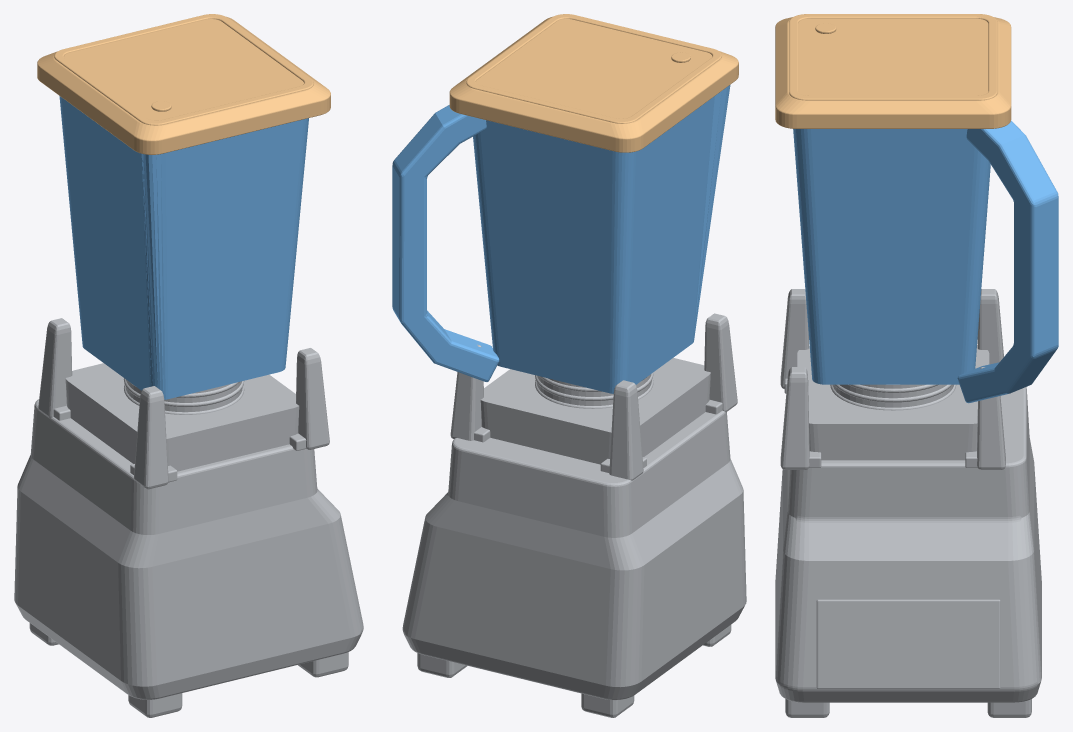
The model's file is parts.glb.
3 renders of one model, left to right at view 1: azimuth 30°, elevation 25°; view 2: azimuth 150°, elevation 25°; view 3: azimuth 270°, elevation 25°, orthographic. The views are drawn at different scales.
Parts seen in each view (by area): view 1: visual_0_0, visual_1_0, visual_2_0; view 2: visual_0_0, visual_1_0, visual_2_0; view 3: visual_0_0, visual_1_0, visual_2_0.
Part boxes in pixels (x1,y1,x2,y2): visual_0_0: (14,318,363,717); visual_1_0: (59,96,308,399); visual_2_0: (37,14,330,154); visual_0_0: (402,313,746,717); visual_1_0: (392,85,730,393); visual_2_0: (449,14,738,152); visual_0_0: (775,289,1041,717); visual_1_0: (793,120,1058,403); visual_2_0: (775,14,1011,128).
Bounding box in the file's own units: 0.1929 × 0.45 × 0.19.
